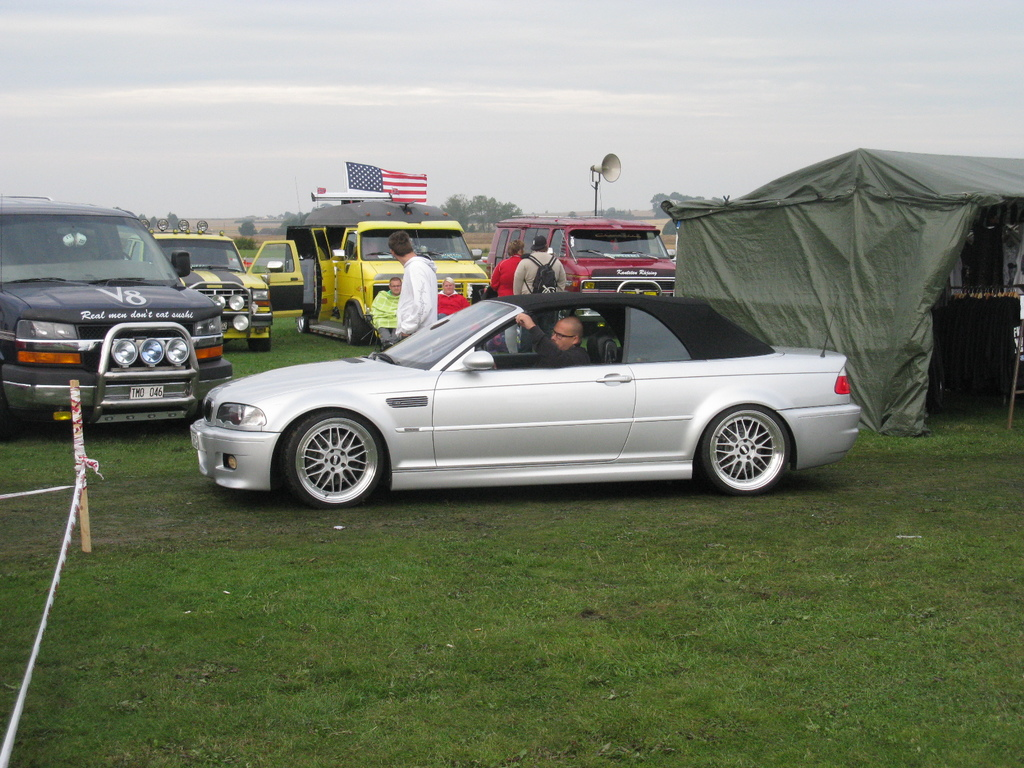Car: (168, 282, 856, 517), (0, 188, 228, 425), (275, 187, 482, 341), (125, 213, 307, 355), (481, 214, 677, 298)
